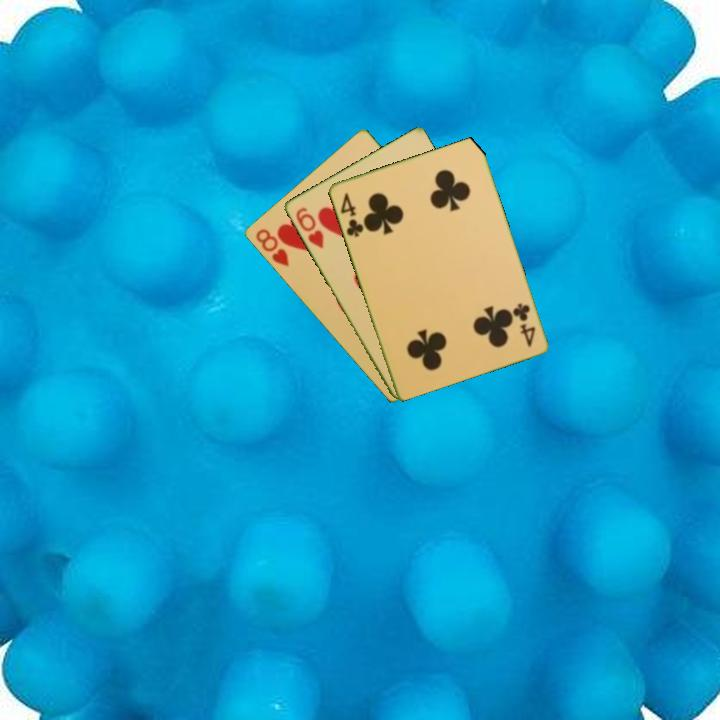4c: (336, 189, 366, 240), (509, 299, 538, 350)
6h: (292, 203, 326, 251)
8h: (252, 225, 292, 269)
